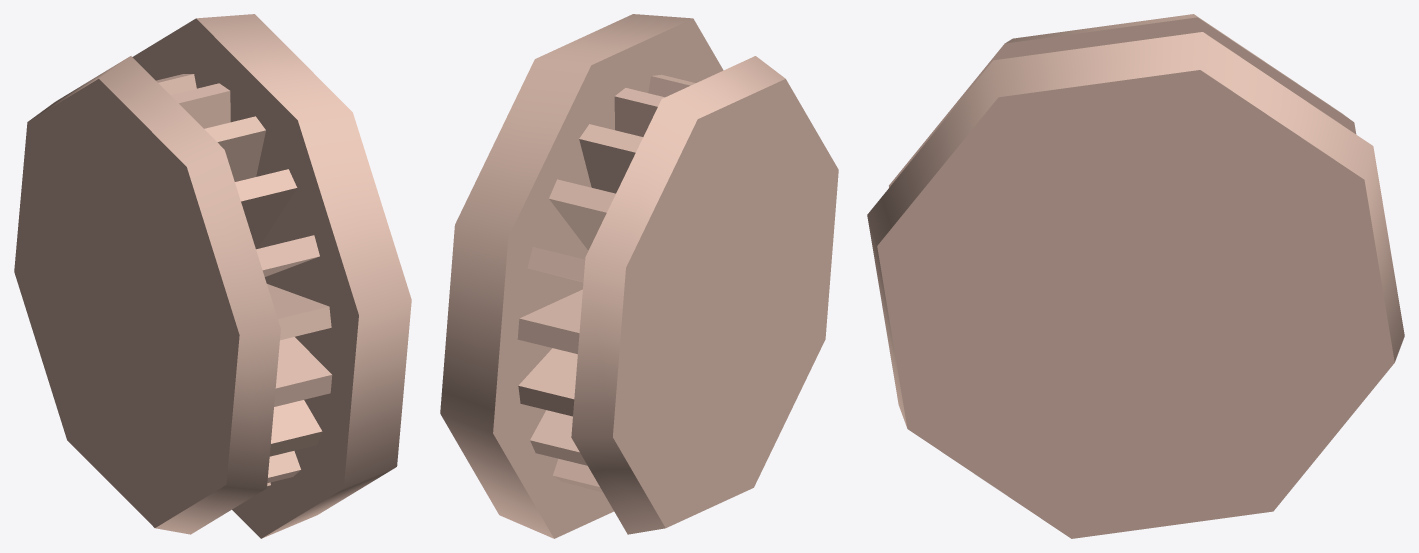
The picture shows the model from 3 angles, left to right: view 1: azimuth 30°, elevation 25°; view 2: azimuth 150°, elevation 25°; view 3: azimuth 270°, elevation 25°; orthographic projection. The views are drawn at different scales.
Parts seen in each view (by area): view 1: Object91; view 2: Object91; view 3: Object91.
Boxes of the visible parts, x1,y1,x2,y2 form: Object91: [14, 14, 411, 538]; Object91: [440, 14, 838, 538]; Object91: [867, 14, 1404, 538].
Size of the model in its own units: 8774 by 24908 by 24908.
